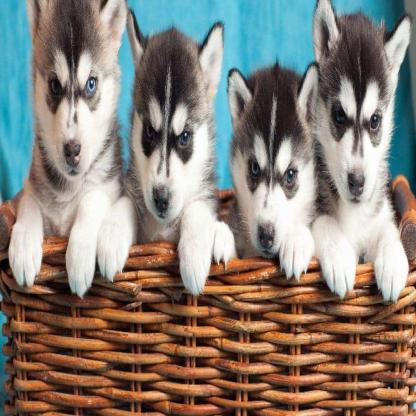husky: (6, 3, 126, 339), (100, 13, 226, 298), (311, 6, 412, 310), (216, 62, 320, 278)
